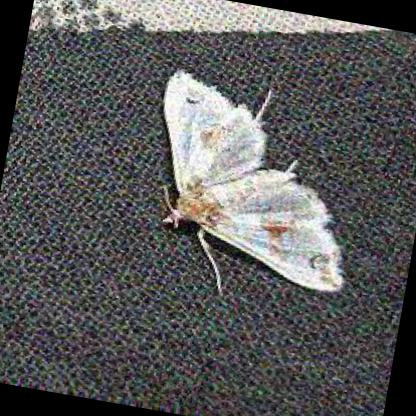leucinodes: (158, 75, 343, 294)
